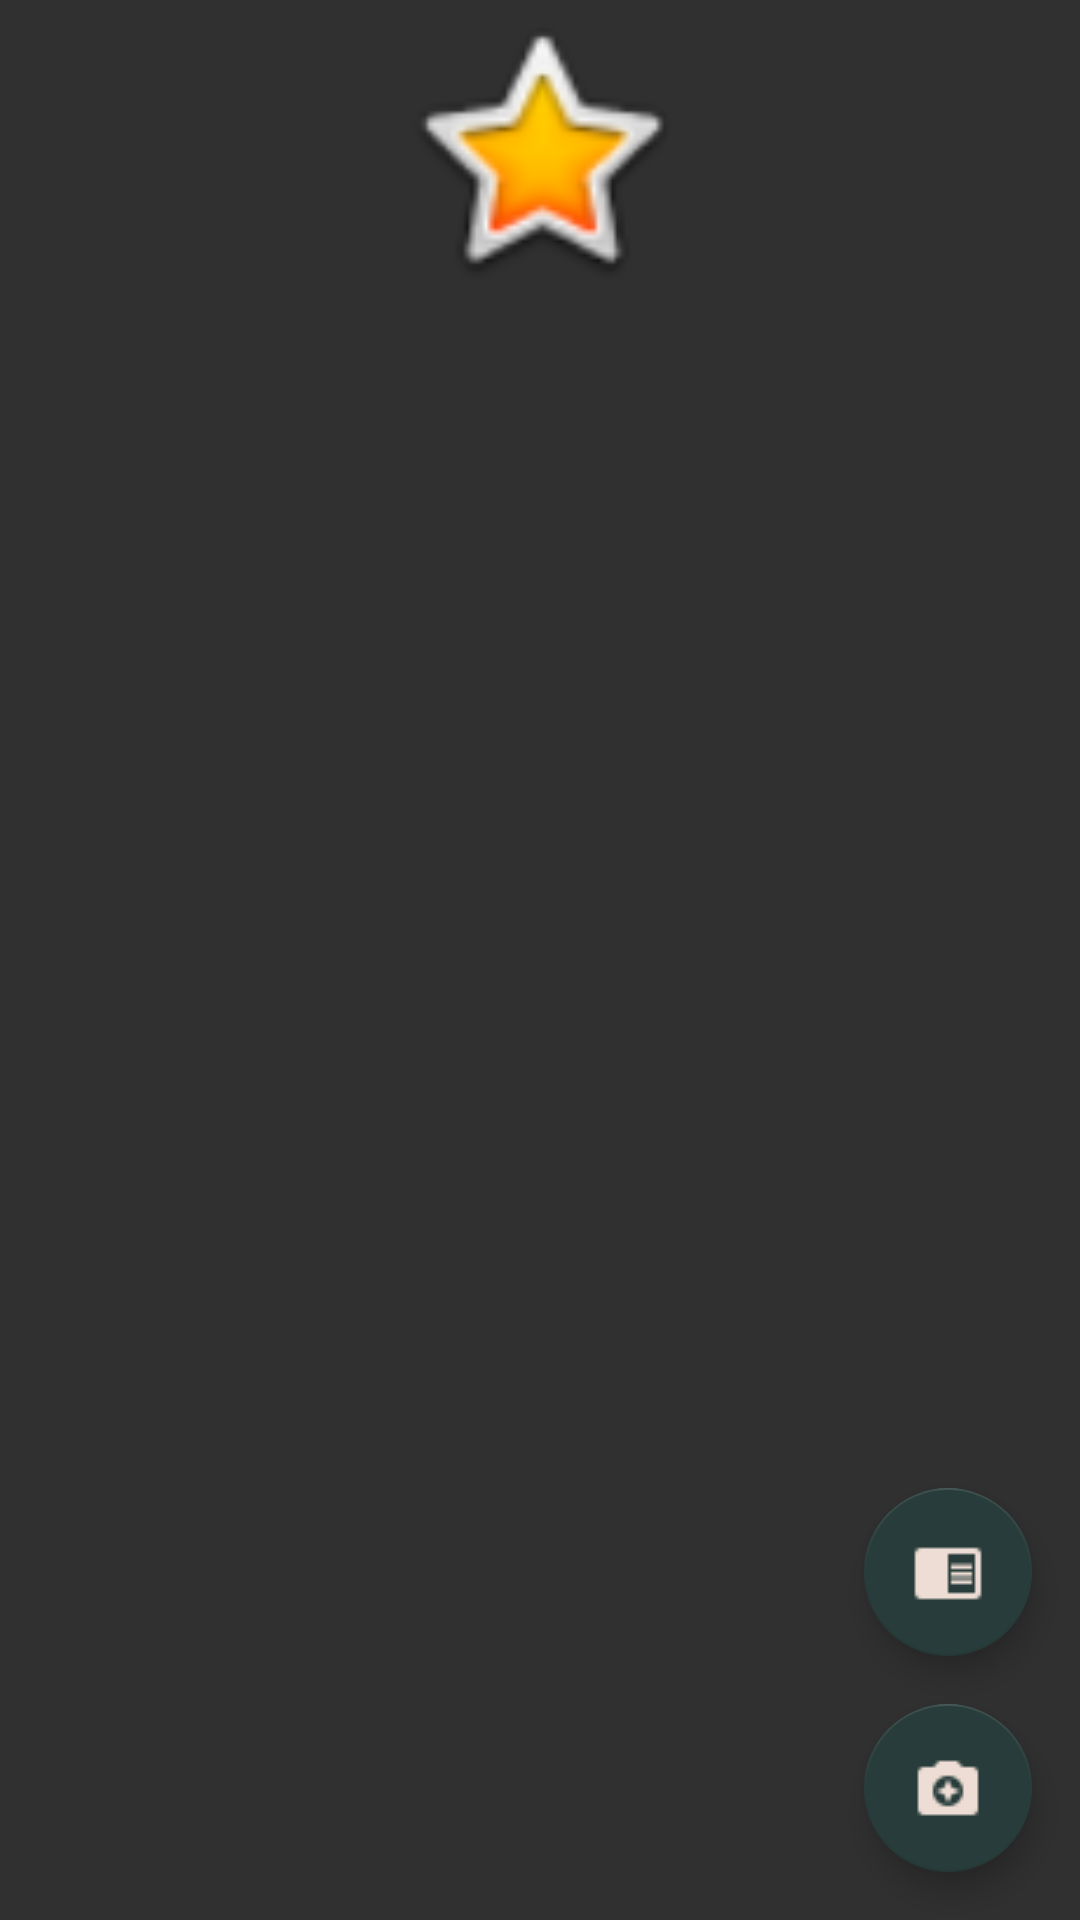

Icon bounding boxes for this 1080px x 1920px phone screenshot, format (x1, y1, x2, y2):
camera: (864, 1704, 1032, 1872)
star on: (425, 36, 662, 263)
